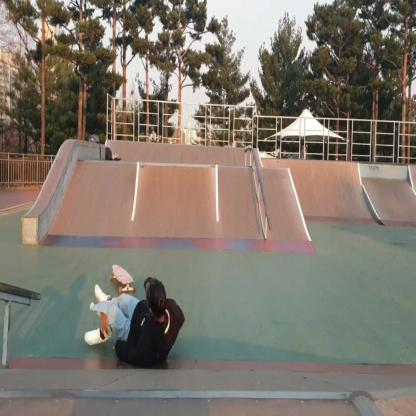Fall_Down: (80, 270, 190, 378)
